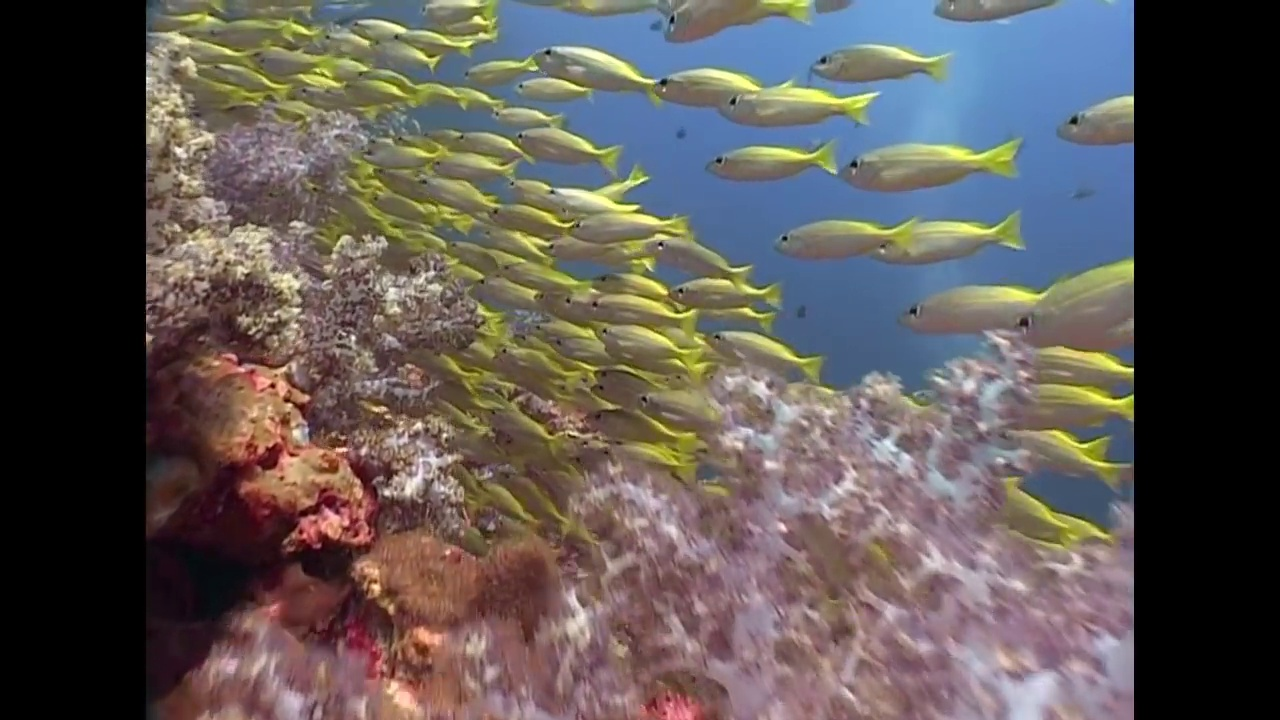big eye snapper: (874, 203, 1025, 265), (831, 140, 1021, 188), (1016, 269, 1136, 339), (998, 465, 1097, 541), (711, 77, 870, 123), (892, 288, 1039, 336), (769, 210, 922, 253), (706, 322, 821, 379), (802, 33, 944, 79), (534, 29, 648, 86), (701, 137, 842, 182), (1003, 341, 1127, 388), (1002, 384, 1132, 426), (587, 313, 694, 364), (580, 406, 691, 455), (514, 118, 613, 171), (671, 265, 784, 311), (645, 57, 756, 99), (569, 203, 685, 242), (1047, 100, 1133, 148), (409, 175, 494, 216), (593, 262, 675, 302), (590, 290, 679, 326), (491, 197, 569, 237), (507, 65, 594, 100), (469, 274, 545, 313), (457, 44, 533, 82), (452, 127, 528, 164), (386, 26, 471, 59), (497, 257, 577, 292), (492, 345, 562, 382), (638, 394, 716, 426), (529, 288, 598, 324), (593, 370, 658, 408), (248, 41, 325, 73), (550, 332, 612, 363), (355, 146, 435, 168), (488, 97, 553, 123), (340, 79, 405, 102), (527, 317, 587, 341)
